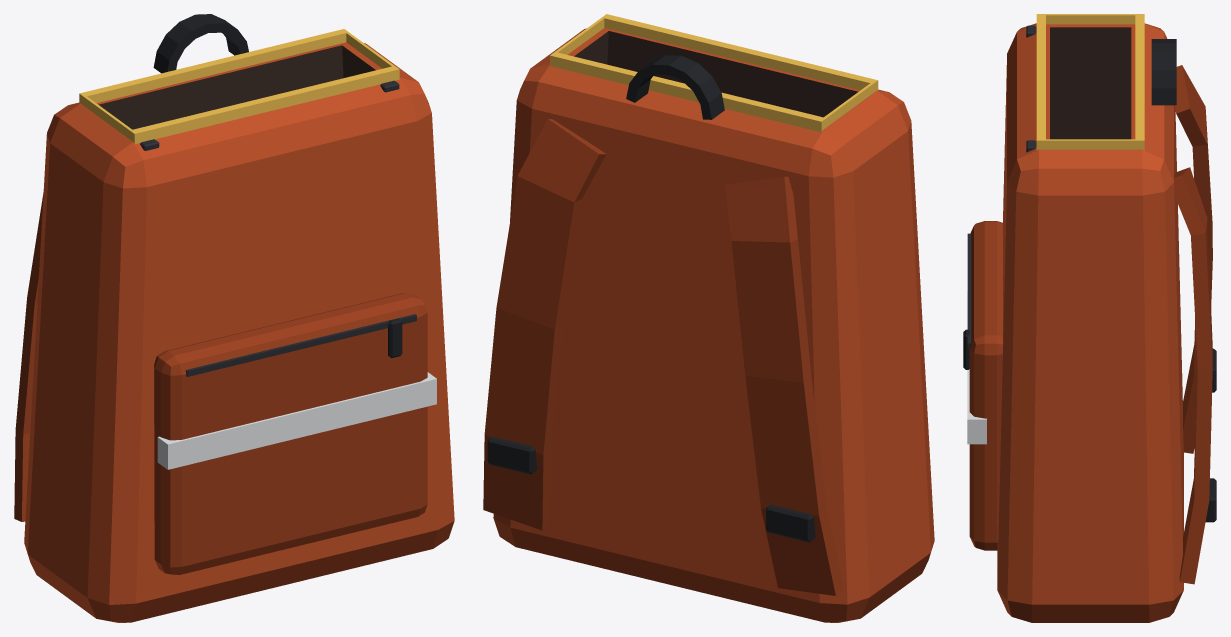
The model's file is Mochila_Kit.fbx.
3 renders of one model, left to right at view 1: azimuth 30°, elevation 25°; view 2: azimuth 150°, elevation 25°; view 3: azimuth 270°, elevation 25°, orthographic. The views are drawn at different scales.
Parts seen in each view (by area): view 1: Mochila_Kit, Abertura; view 2: Mochila_Kit, Abertura; view 3: Mochila_Kit, Abertura.
Part boxes in pixels (bbox=[...]): Mochila_Kit: bbox=[14, 14, 454, 622]; Abertura: bbox=[79, 29, 399, 150]; Mochila_Kit: bbox=[483, 28, 934, 622]; Abertura: bbox=[550, 14, 878, 132]; Mochila_Kit: bbox=[963, 23, 1216, 622]; Abertura: bbox=[1026, 14, 1144, 152].
Size of the model in its own units: 0.3295 by 0.448 by 0.203.
1 material, 1 textured.
